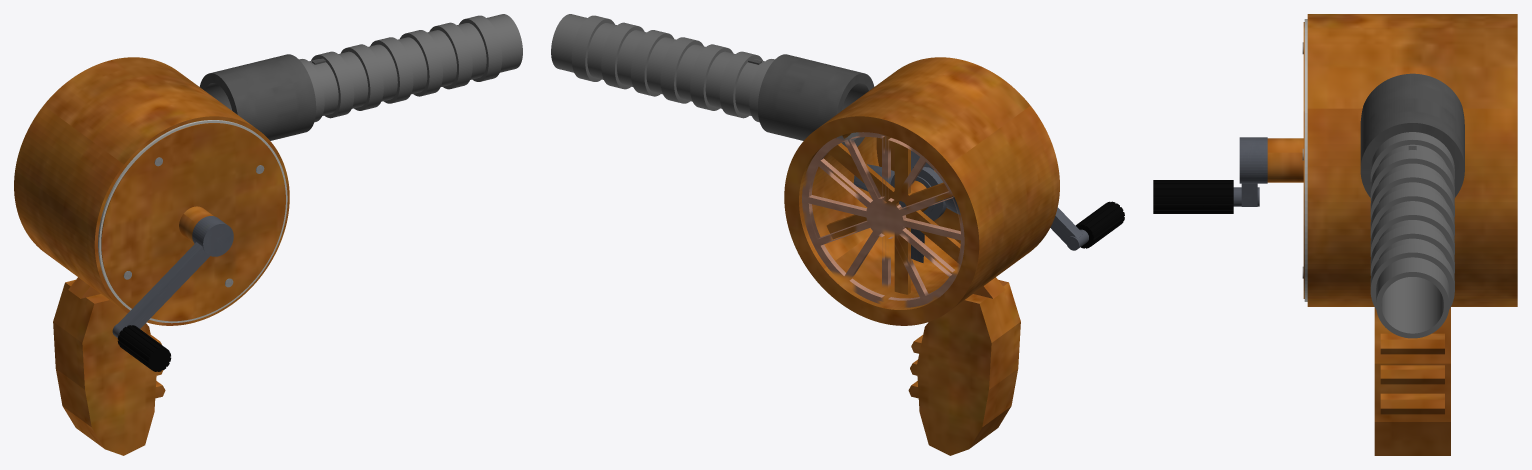
The model's file is pictureX_0611_Air_blower__0026.glb.
The picture shows the model from 3 angles, left to right: view 1: azimuth 30°, elevation 25°; view 2: azimuth 150°, elevation 25°; view 3: azimuth 270°, elevation 25°; orthographic projection. The views are drawn at different scales.
Parts seen in each view (by area): view 1: housing::main_body, nozzle::metal_tube, housing::outlet_socket, crank::crank_arm, housing::front_seam, crank::rotating_grip, crank::crank_hub; view 2: housing::main_body, nozzle::metal_tube, housing::intake_grille, housing::outlet_socket, crank::rotating_grip, fan_rotor::fan_wheel, crank::crank_arm, fan_rotor::fan_hub; view 3: housing::main_body, nozzle::metal_tube, housing::outlet_socket, crank::rotating_grip, crank::crank_hub, housing::front_seam, crank::crank_arm.
Boxes of the visible parts, left/top/right/bottom form: housing::main_body: left=14, top=57, right=289, bottom=455; nozzle::metal_tube: left=299, top=14, right=522, bottom=122; housing::outlet_socket: left=199, top=54, right=316, bottom=140; crank::crank_arm: left=116, top=242, right=209, bottom=330; housing::front_seam: left=98, top=120, right=287, bottom=323; crank::rotating_grip: left=117, top=325, right=171, bottom=371; crank::crank_hub: left=192, top=216, right=233, bottom=256; housing::main_body: left=784, top=57, right=1059, bottom=455; nozzle::metal_tube: left=551, top=14, right=774, bottom=122; housing::intake_grille: left=802, top=132, right=964, bottom=307; housing::outlet_socket: left=758, top=54, right=874, bottom=147; crank::rotating_grip: left=1075, top=201, right=1124, bottom=248; fan_rotor::fan_wheel: left=853, top=150, right=960, bottom=262; crank::crank_arm: left=1050, top=207, right=1083, bottom=244; fan_rotor::fan_hub: left=890, top=167, right=946, bottom=221; housing::main_body: left=1267, top=14, right=1517, bottom=455; nozzle::metal_tube: left=1370, top=132, right=1454, bottom=338; housing::outlet_socket: left=1360, top=73, right=1464, bottom=197; crank::rotating_grip: left=1153, top=180, right=1233, bottom=213; crank::crank_hub: left=1239, top=137, right=1267, bottom=183; housing::front_seam: left=1304, top=19, right=1307, bottom=301; crank::crank_arm: left=1241, top=183, right=1257, bottom=206.
Size of the model in its own units: 0.3444 by 0.247 by 0.1817.
9 materials, 7 textured.
